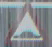Speed Breaker ahead: (4, 1, 48, 43)
